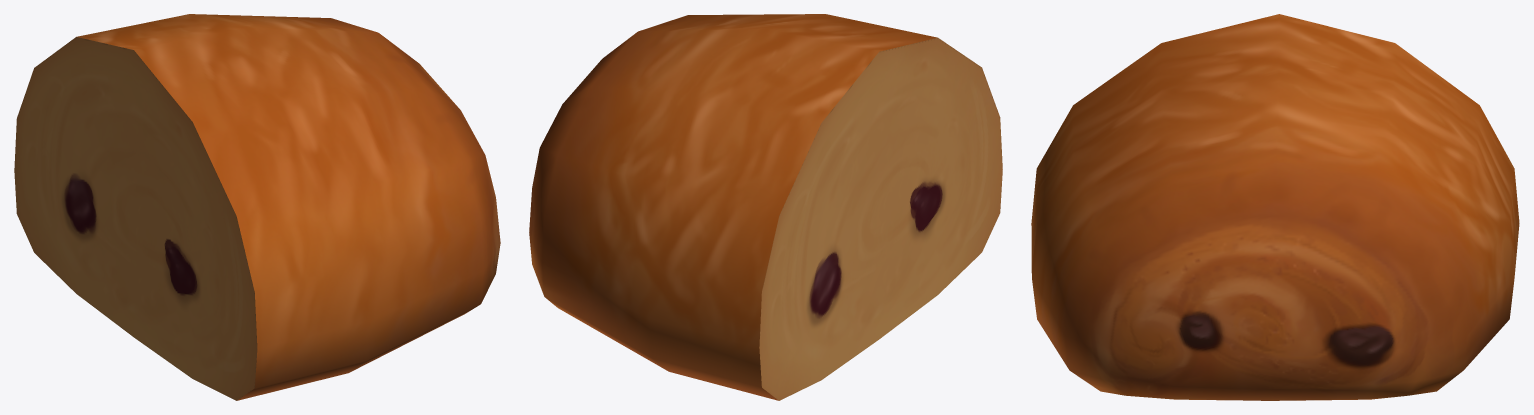
File: painauchocolatHalf.fbx
3 views of the same model, side by side, from view 1: azimuth 30°, elevation 25°; view 2: azimuth 150°, elevation 25°; view 3: azimuth 270°, elevation 25° (orthographic).
Visible parts, largest first — view 1: painauchocolatHalf; view 2: painauchocolatHalf; view 3: painauchocolatHalf.
Part boxes in pixels (x1,y1,x2,y2): painauchocolatHalf: (14, 14, 500, 400); painauchocolatHalf: (529, 14, 1002, 400); painauchocolatHalf: (1031, 14, 1519, 400).
Bounding box in the file's own units: 16.09 × 14.23 × 21.81.
